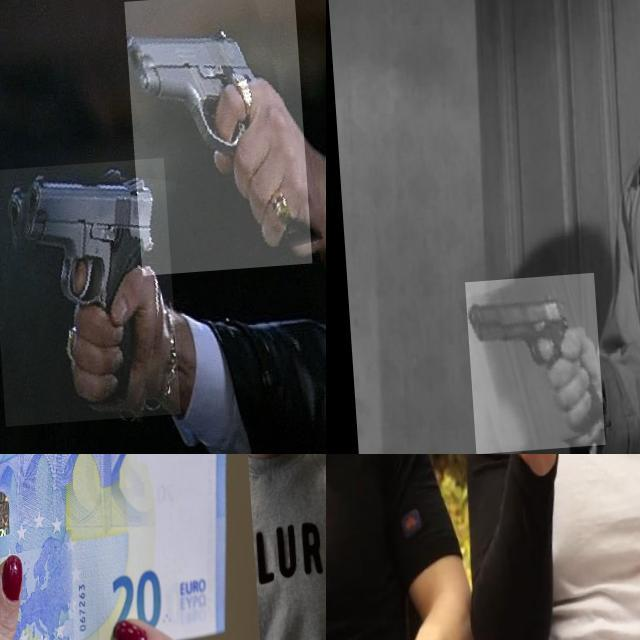-: (438, 454, 609, 549)
gun-knife-thesis - v11 Yolov5 augmented: (122, 0, 306, 279), (0, 161, 172, 427), (459, 276, 596, 454)
